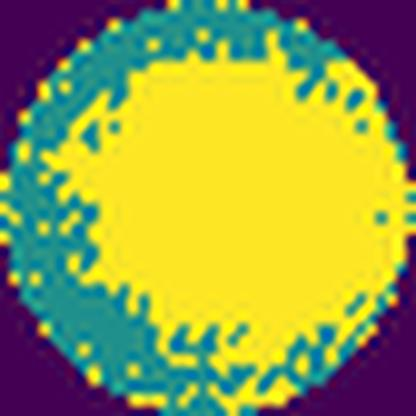Center: (61, 58, 409, 370)
